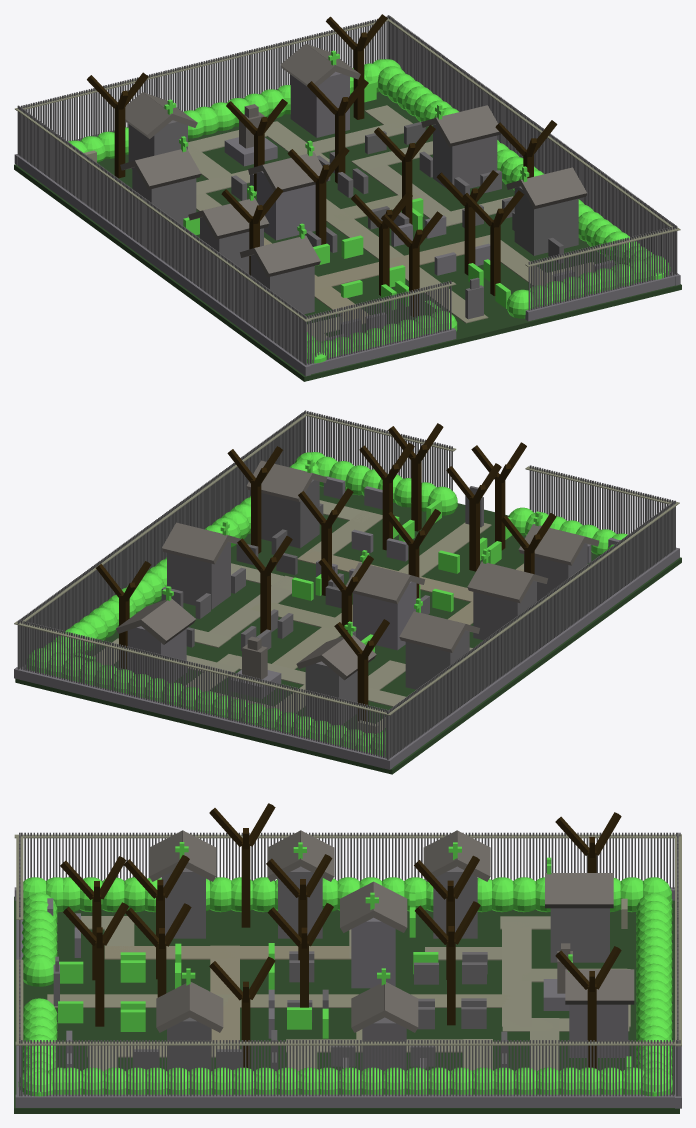
The model's file is cimetiere.fbx.
3 renders of one model, top to bottom at view 1: azimuth 30°, elevation 25°; view 2: azimuth 150°, elevation 25°; view 3: azimuth 270°, elevation 25°, orthographic. The views are drawn at different scales.
Parts seen in each view (by area): view 1: Cube.193; view 2: Cube.193; view 3: Cube.193.
Part boxes in pixels (box(x1,y1,x2,y2)): Cube.193: box(14, 14, 681, 381); Cube.193: box(14, 410, 681, 774); Cube.193: box(14, 803, 681, 1113).
Bounding box in the file's own units: 1692 × 462 × 2255.
